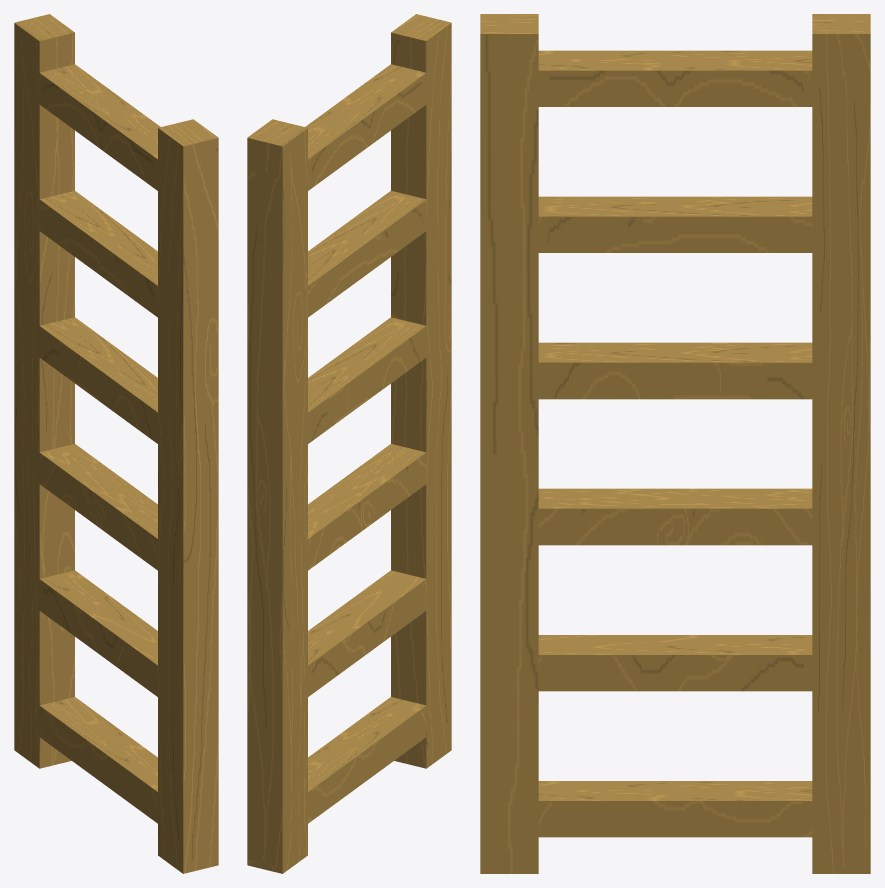
The model's file is ladder.glb.
3 views of the same model, side by side, from view 1: azimuth 30°, elevation 25°; view 2: azimuth 150°, elevation 25°; view 3: azimuth 270°, elevation 25° (orthographic). The views are drawn at different scales.
Visible parts, largest first — view 1: Cube; view 2: Cube; view 3: Cube.
Part boxes in pixels (x1,y1,x2,y2): Cube: (14,14,218,873); Cube: (247,14,451,873); Cube: (480,14,870,873).
Size of the model in its own units: 0.6521 by 12.76 by 5.38.
Materials: 1 (1 with a texture image).
